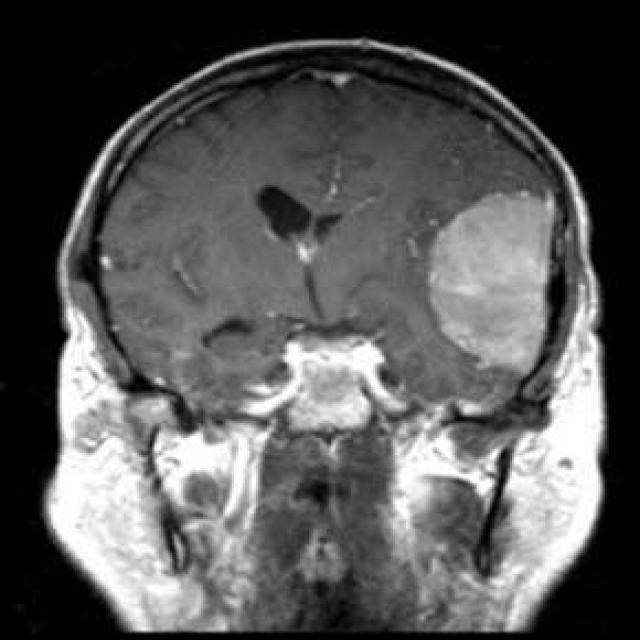Tumor: (424, 189, 554, 379)
